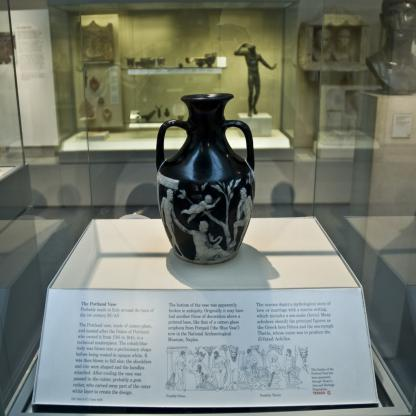vase: (154, 91, 257, 264)
